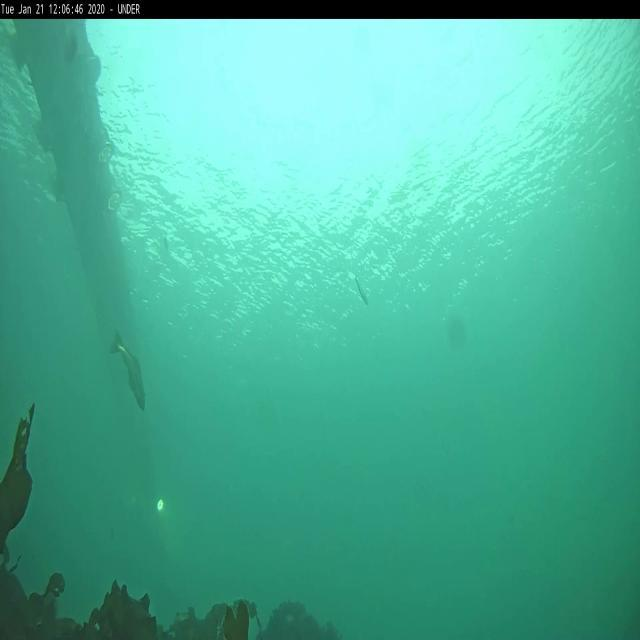fish: (110, 334, 146, 416), (354, 274, 368, 302)
